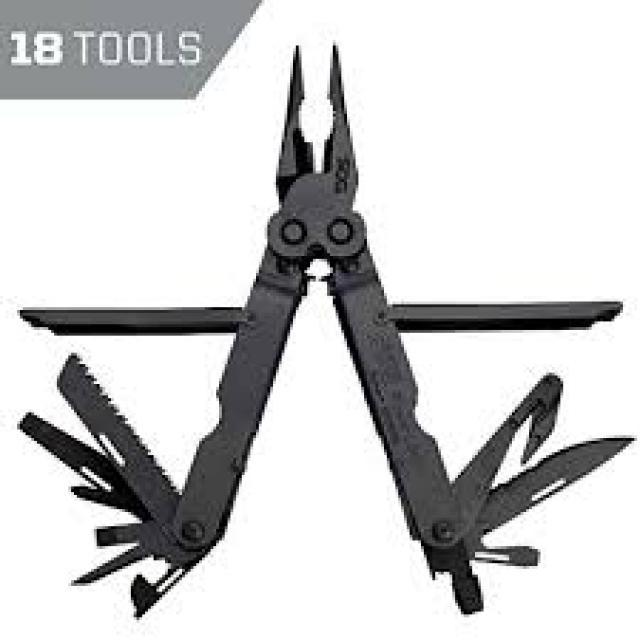pliers: (209, 35, 441, 539)
